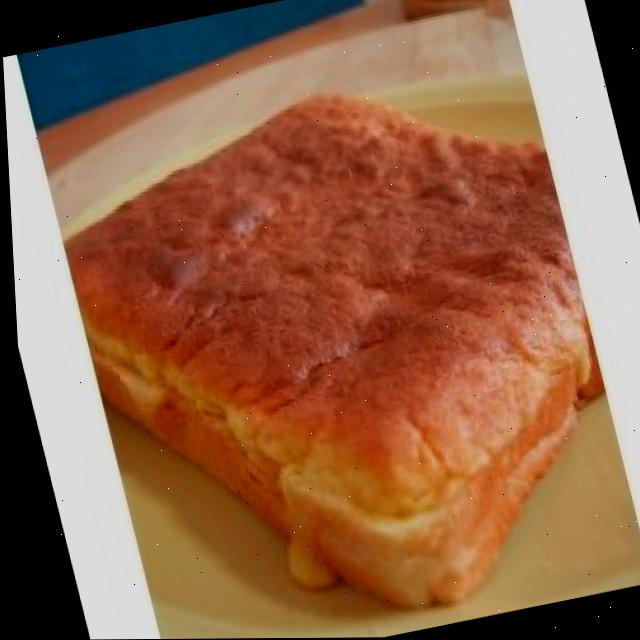面包点心: (16, 45, 640, 640)
